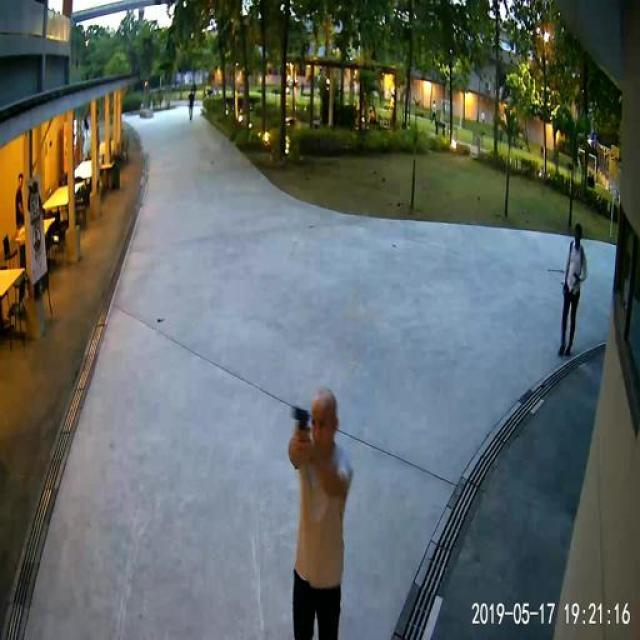Gun: (282, 401, 320, 449)
